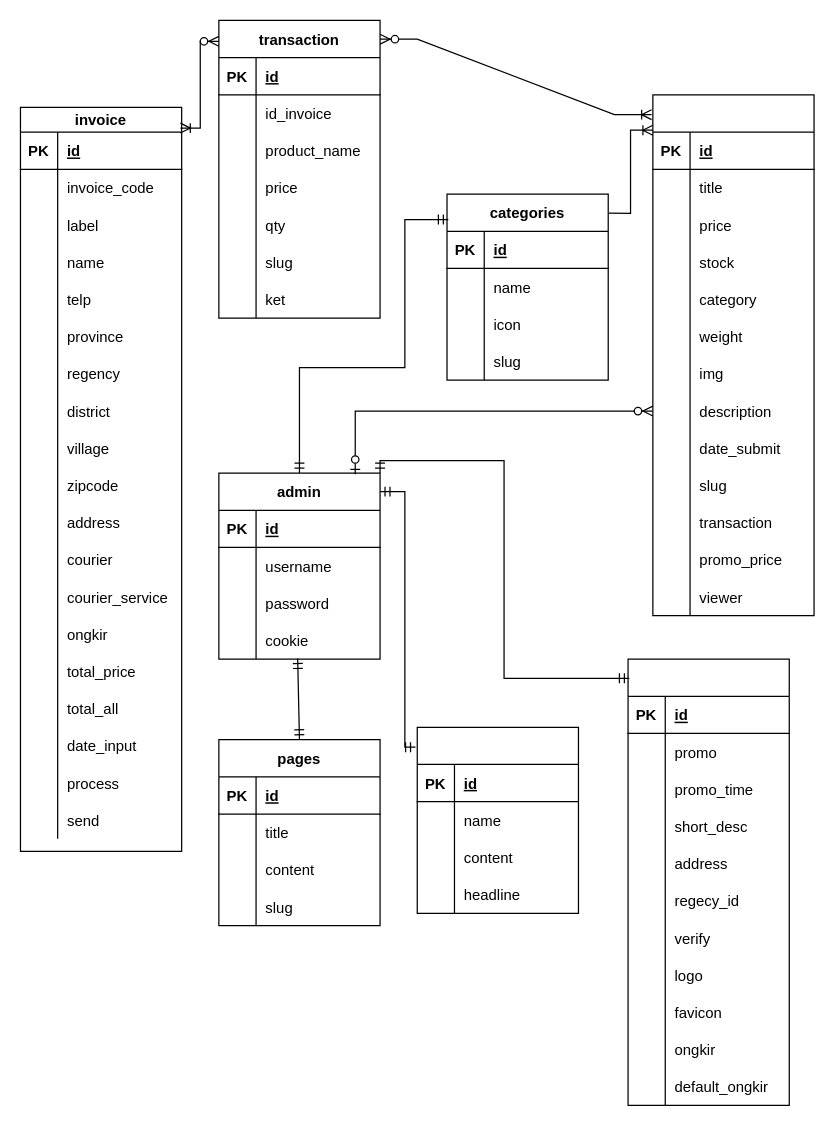
This 835x1126 diagram has some shape labels left out. Here are the shapes that lost their labels. From the top down, the box of each, then its label:
(652, 94, 814, 616): products
(416, 726, 578, 913): testimonial
(627, 658, 789, 1105): settings
